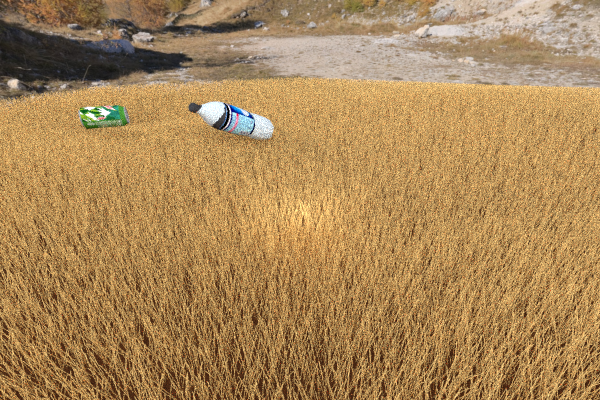bottle: (188, 101, 274, 140)
can: (37, 97, 83, 125), (78, 105, 129, 129)
